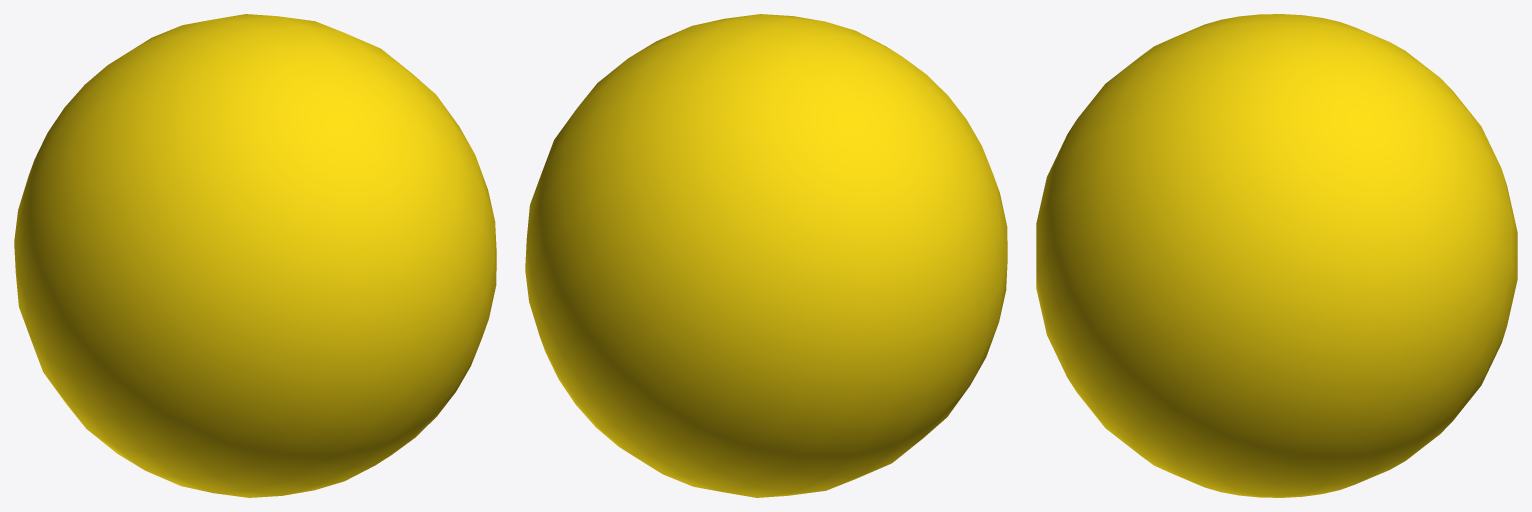
The model's file is _60355K291_Steel_Ball_Bearing_11.gltf.
3 views of the same model, side by side, from view 1: azimuth 30°, elevation 25°; view 2: azimuth 150°, elevation 25°; view 3: azimuth 270°, elevation 25° (orthographic).
Parts seen in each view (by area): view 1: mesh52036; view 2: mesh52036; view 3: mesh52036.
Boxes of the visible parts, x1,y1,x2,y2 form: mesh52036: (14, 14, 496, 497); mesh52036: (525, 14, 1007, 497); mesh52036: (1036, 14, 1517, 497).
Bounding box in the file's own units: 0.00475 × 0.00475 × 0.00472.
